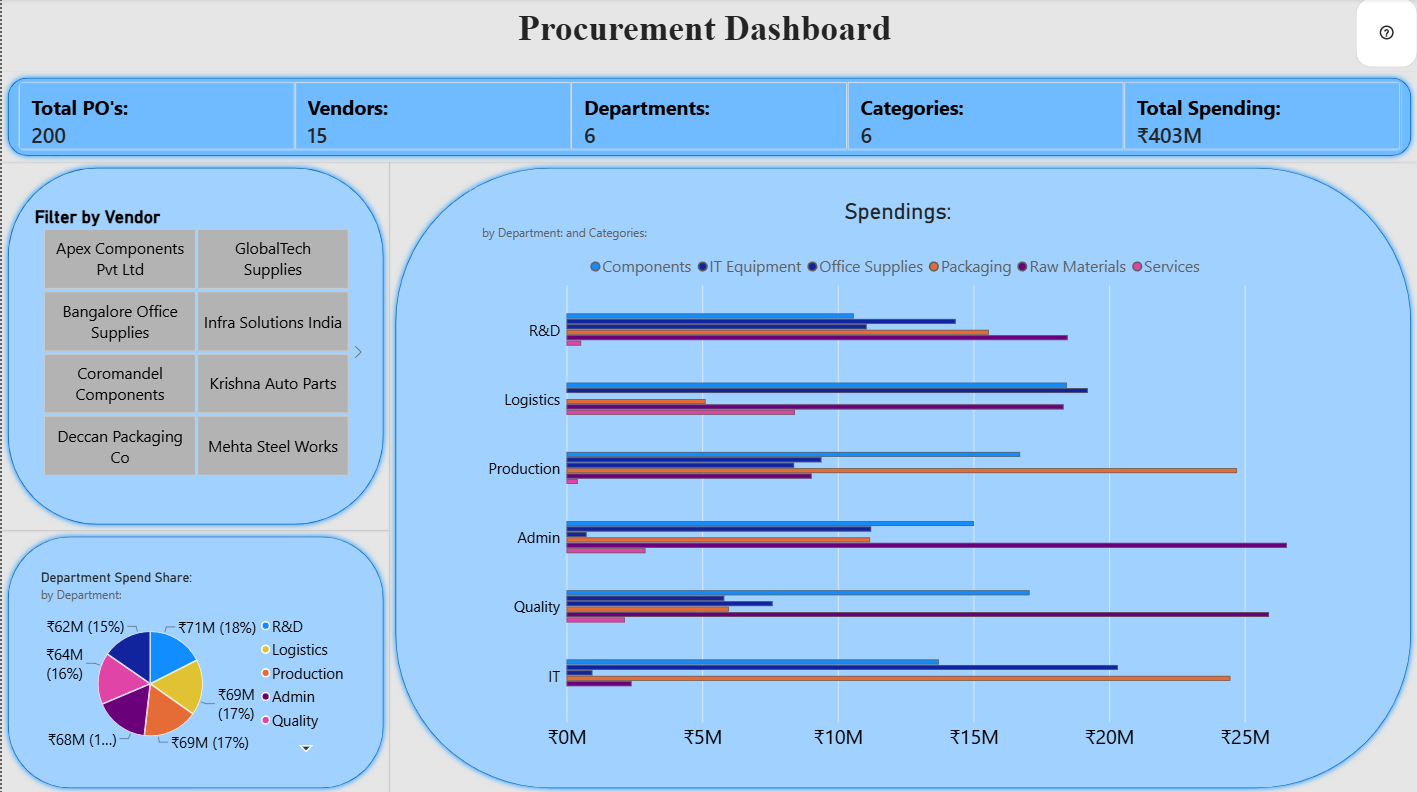

This screenshot's page, from the dashboard's own definition file:
{"tool":"powerbi","page":{"name":"Spending Overview","canvas":[1920,1080],"ordinal":0},"visuals":[{"type":"shape","box":[0,100.1,1919.9,122.1],"z":0,"group":"g1"},{"type":"group","id":"g1","title":"Background","box":[0,100.1,1919.9,980.3],"z":0},{"type":"cardVisual","fields":{"Data":["Sum(Procurement_Vendor Final INR.Total_Purchases)","Count(Spend&savings departmentwise.Vendor_Name)","Count(Procurement_Vendor Final INR.Department)","Count(Procurement_Vendor Final INR.Category)","Sum(Procurement_Vendor Final INR.Total_Spending INR)"]},"box":[22,113.6,1877.5,93.3],"z":1000},{"type":"shape","box":[0,222.2,525.8,500.3],"z":1000,"group":"g1"},{"type":"textbox","box":[476.2,14,954.1,64.5],"z":2000},{"type":"shape","box":[525.8,222.2,1394.1,858.2],"z":2000,"group":"g1"},{"type":"clusteredBarChart","fields":{"Category":["Procurement_Vendor Final INR.Department"],"Series":["Procurement_Vendor Final INR.Category"],"Y":["Sum(Procurement_Vendor Final INR.Total_Spending INR)"]},"box":[634.3,256.1,1160.1,786.9],"z":3000},{"type":"shape","box":[0,722.5,525.8,357.9],"z":3000,"group":"g1"},{"type":"slicer","fields":{"Values":["Procurement_Vendor Final INR.Vendor_Name"]},"box":[35.6,281.5,454.5,369.7],"z":4000},{"type":"pieChart","fields":{"Category":["Procurement_Vendor Final INR.Department"],"Y":["Sum(Procurement_Vendor Final INR.Total_Spending INR)"]},"box":[35.6,759.8,454.5,283.2],"z":5000},{"type":"actionButton","box":[1836.8,0,83.7,94.2],"z":6000}]}

Visuals, with their boxes in screenshot pixels (x1, y1, x2, y2), scaled from the page's 1920x1080 canvas onto the 1417x792 screenshot:
shape: x1=0, y1=73, x2=1416, y2=163
"Background" group: x1=0, y1=73, x2=1416, y2=791
cardVisual - Sum(Procurement_Vendor Final INR.Total_Purchases) x Count(Spend&savings departmentwise.Vendor_Name): x1=16, y1=83, x2=1402, y2=152
shape: x1=0, y1=163, x2=388, y2=530
textbox: x1=351, y1=10, x2=1056, y2=58
shape: x1=388, y1=163, x2=1416, y2=791
clusteredBarChart - Procurement_Vendor Final INR.Department x Procurement_Vendor Final INR.Category: x1=468, y1=188, x2=1324, y2=765
shape: x1=0, y1=530, x2=388, y2=791
slicer - Procurement_Vendor Final INR.Vendor_Name: x1=26, y1=206, x2=362, y2=478
pieChart - Procurement_Vendor Final INR.Department x Sum(Procurement_Vendor Final INR.Total_Spending INR): x1=26, y1=557, x2=362, y2=765
actionButton: x1=1356, y1=0, x2=1416, y2=69
